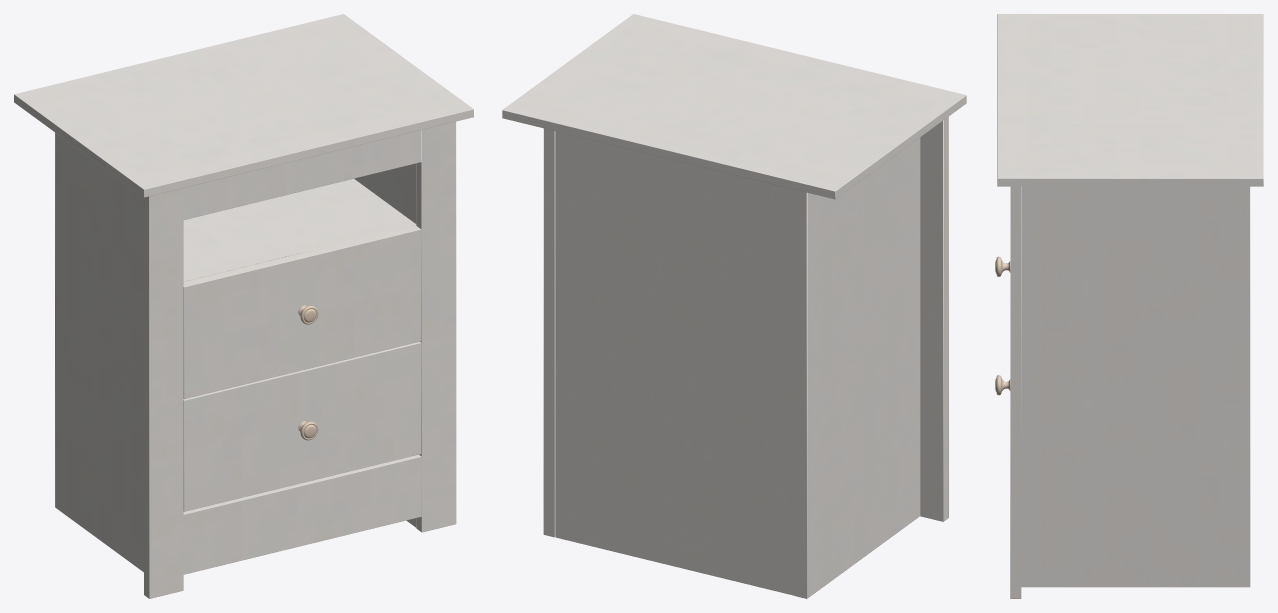
Rendered from abo-B07PX3D82S.glb.
3 renders of one model, left to right at view 1: azimuth 30°, elevation 25°; view 2: azimuth 150°, elevation 25°; view 3: azimuth 270°, elevation 25°, orthographic. The views are drawn at different scales.
Size of the model in its own units: 0.589 by 0.711 by 0.406.
Materials: 1 (1 with a texture image).
